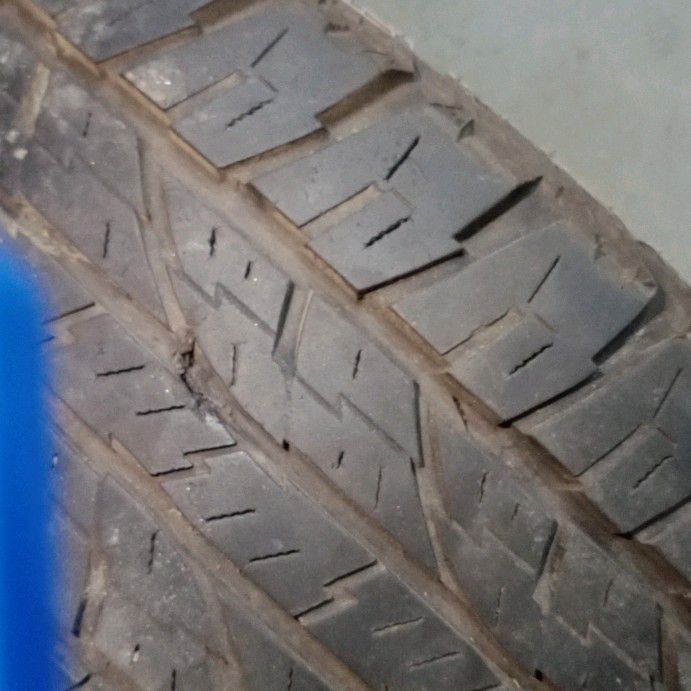tr: (167, 336, 227, 433)
